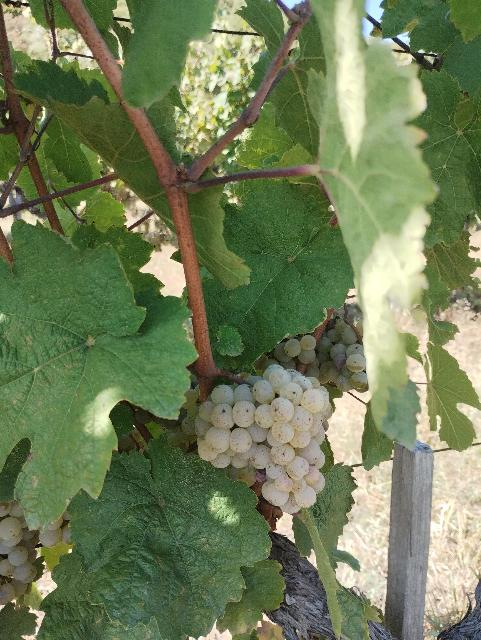grapes: (195, 365, 330, 515), (275, 320, 369, 392)
